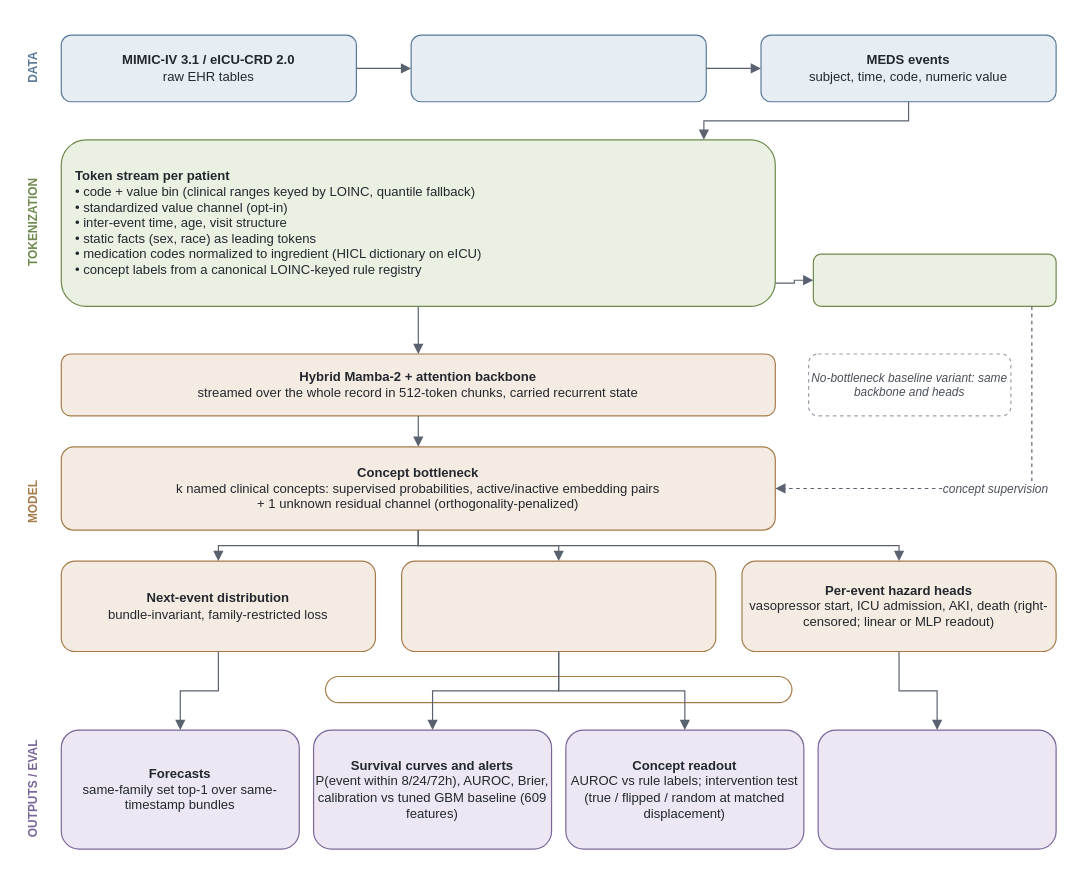
This 1077x870 diagram has some shape labels left out. The centre of each missing label's shape, as x and y in pixels:
Concept labels rule-derived supervision targets: the point at 934,279
loss = task + concept + orthogonality + time + event-hazard: the point at 558,689
MEDS extraction meds-extract, MESSY specs: the point at 558,68
Report + case traces clinician interface (Phase 2): the point at 936,789
Time-to-next-event hazard log-time bins: the point at 558,606
